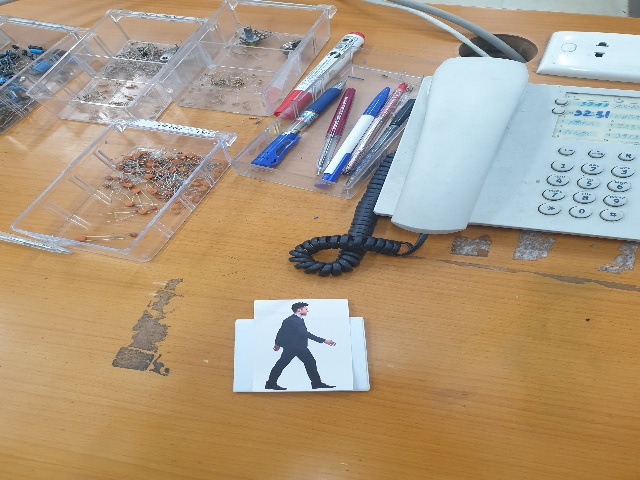Person: (255, 299, 350, 395)
